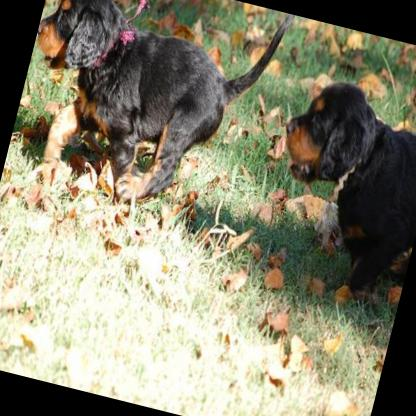Gordon_setter: (4, 0, 290, 225), (248, 65, 416, 312)
